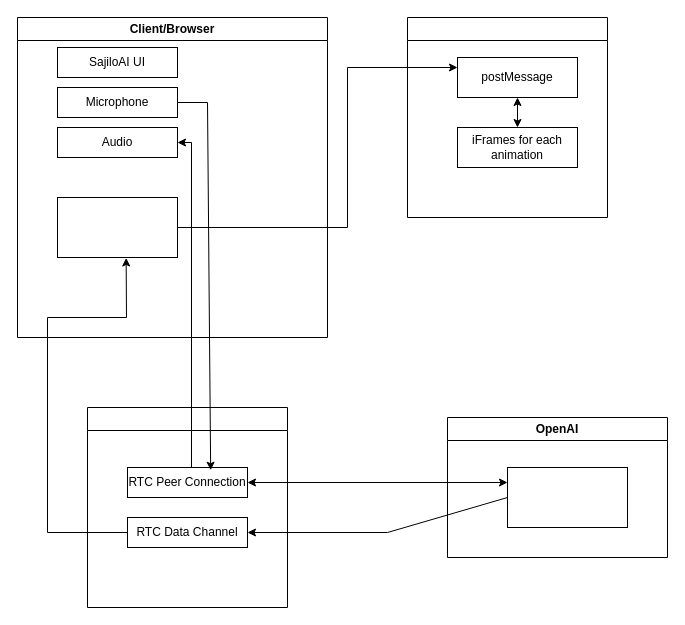
This 685x625 diagram has some shape labels left out. Here are the shapes that lost their labels. From the top down, the box of each, then its label:
(406, 16, 608, 218): Animation Layer
(56, 196, 178, 258): Function Router (map tool calls to postMessage actions)
(86, 406, 288, 608): RTC Layer
(506, 466, 628, 528): Realtime API (gpt-4o-realtime-preview-2025-06-03) with function calling
